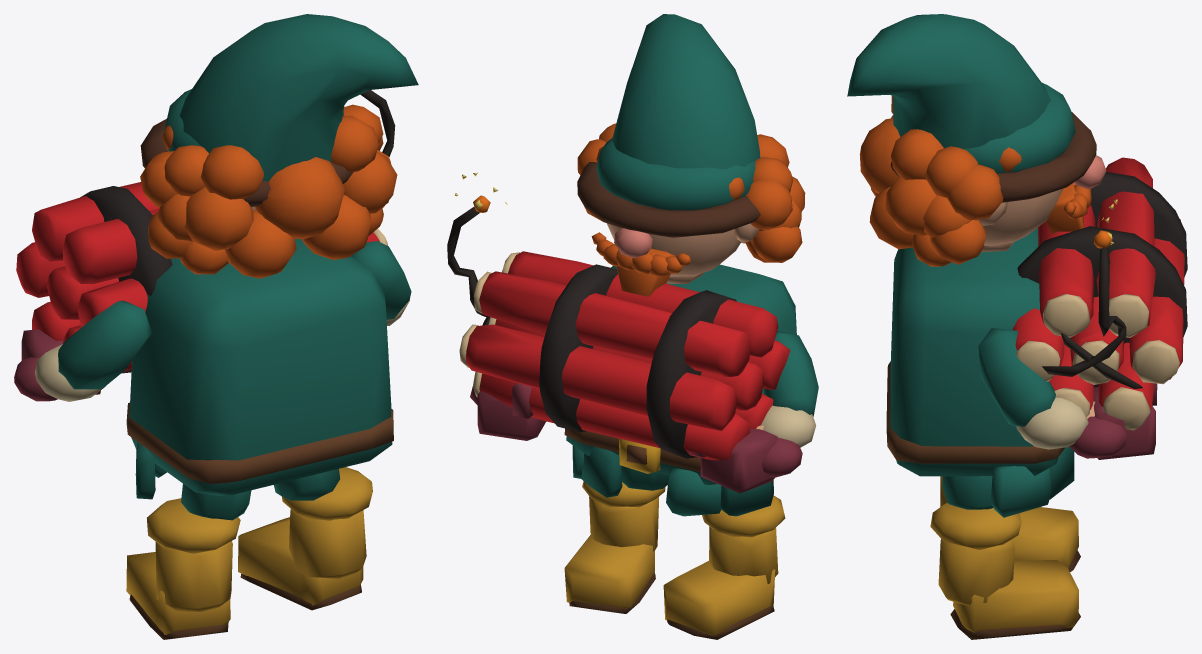
File: bomber.glb
3 views of the same model, side by side, from view 1: azimuth 30°, elevation 25°; view 2: azimuth 150°, elevation 25°; view 3: azimuth 270°, elevation 25° (orthographic). The views are drawn at different scales.
Visible parts, largest first — view 1: Body.001, Leg-1.003, Leg1.003; view 2: Body.001, Leg1.003, Leg-1.003; view 3: Body.001, Leg-1.003, Leg1.003.
Part boxes in pixels (left/top/right/bottom): Body.001: left=14, top=14, right=418, bottom=499; Leg-1.003: left=238, top=467, right=372, bottom=610; Leg1.003: left=126, top=484, right=251, bottom=639; Body.001: left=447, top=14, right=818, bottom=516; Leg1.003: left=663, top=495, right=785, bottom=639; Leg-1.003: left=564, top=465, right=668, bottom=613; Body.001: left=847, top=14, right=1187, bottom=517; Leg-1.003: left=930, top=476, right=1080, bottom=639; Leg1.003: left=940, top=476, right=1080, bottom=571.
Bounding box in the file's own units: 0.5483 × 0.8287 × 0.4344.
